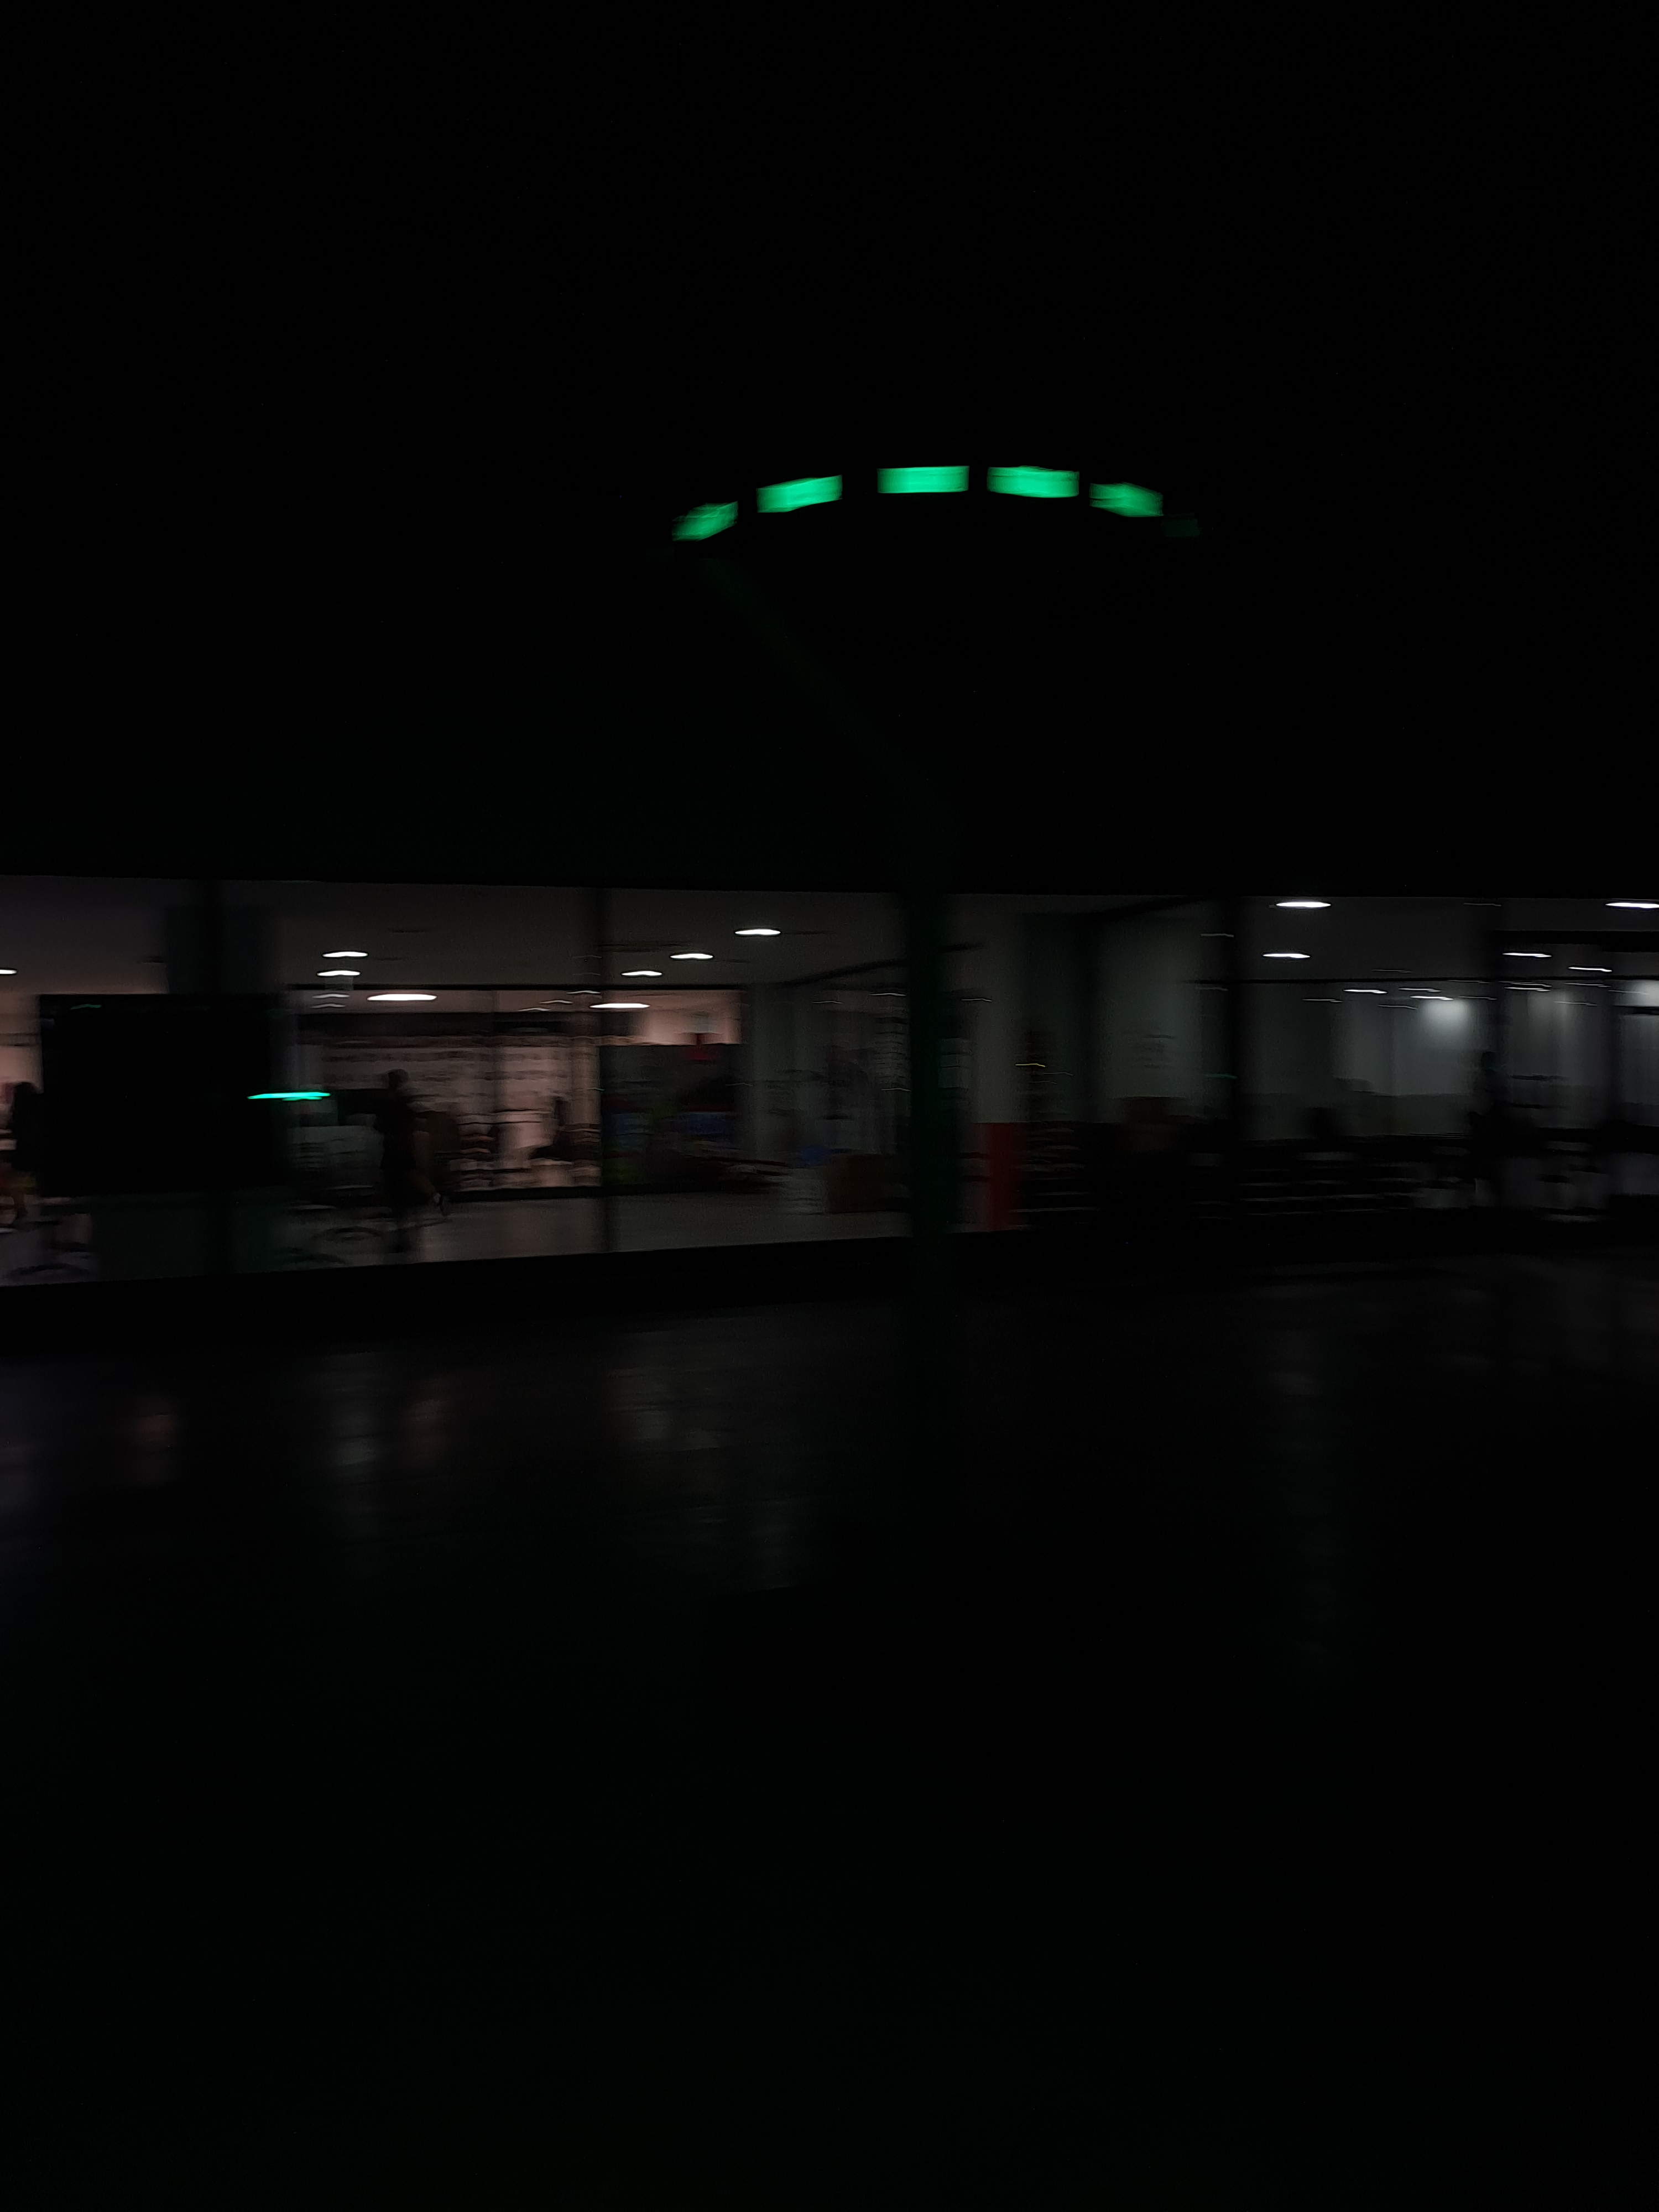hoop: (648, 460, 1197, 564)
